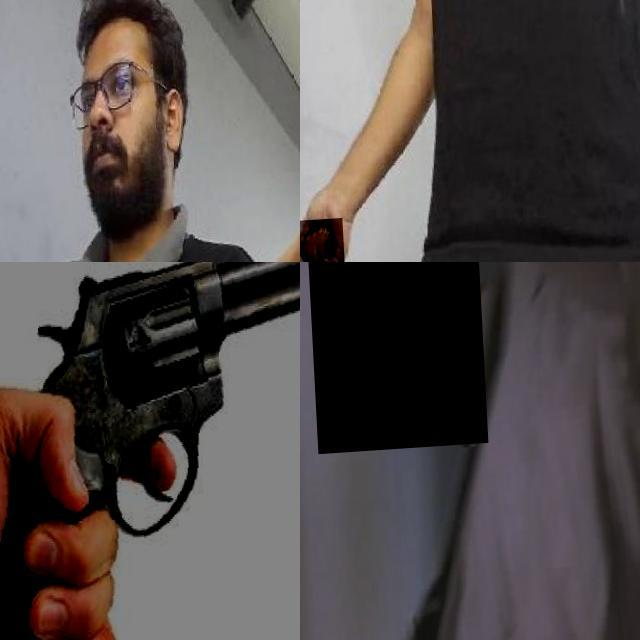-: (300, 220, 339, 262)
gun-knife-thesis - v11 Yolov5 augmented: (0, 262, 300, 640), (307, 262, 485, 457)
